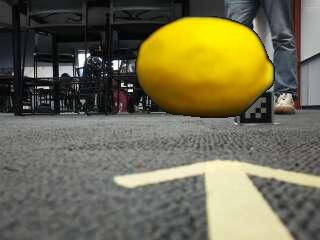lemon: (136, 20, 273, 120)
